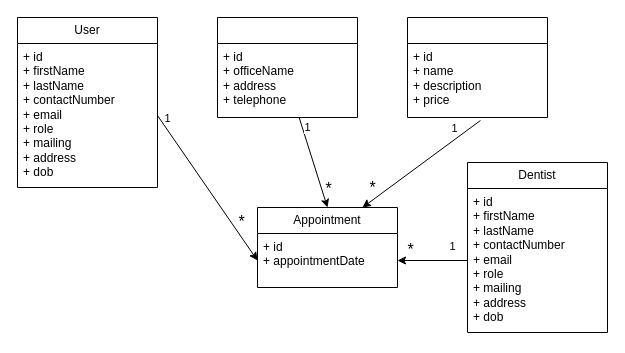
Image size: 625x353. Some labels were removed from this diagram. Here are the shapes that lost their labels. From the top down, the box of each, then its label:
(216, 16, 358, 118): Location
(406, 16, 548, 118): Surgery
